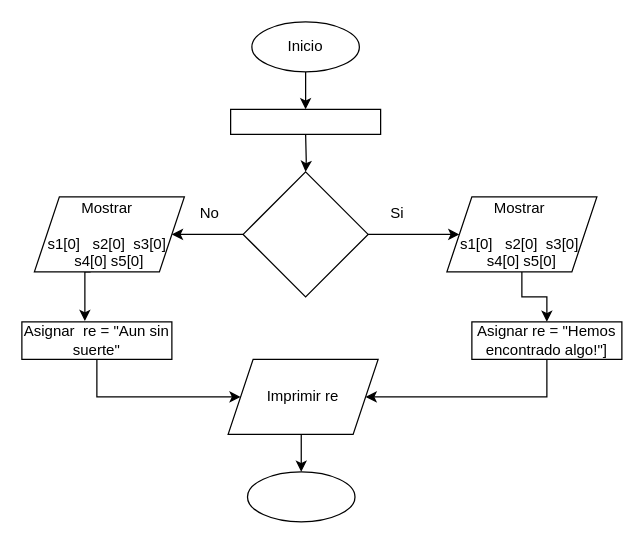
Some shapes in this 644 by 544 pixel diagram are drawn without their labels. The shapes that lost their labels are listed below. From the top down, each one's centre as x and y in pixels, then its label:
At (305,121): "Declarar re".
At (305,234): "s1[0] == s5[0]".
At (300,496): "Fin".
